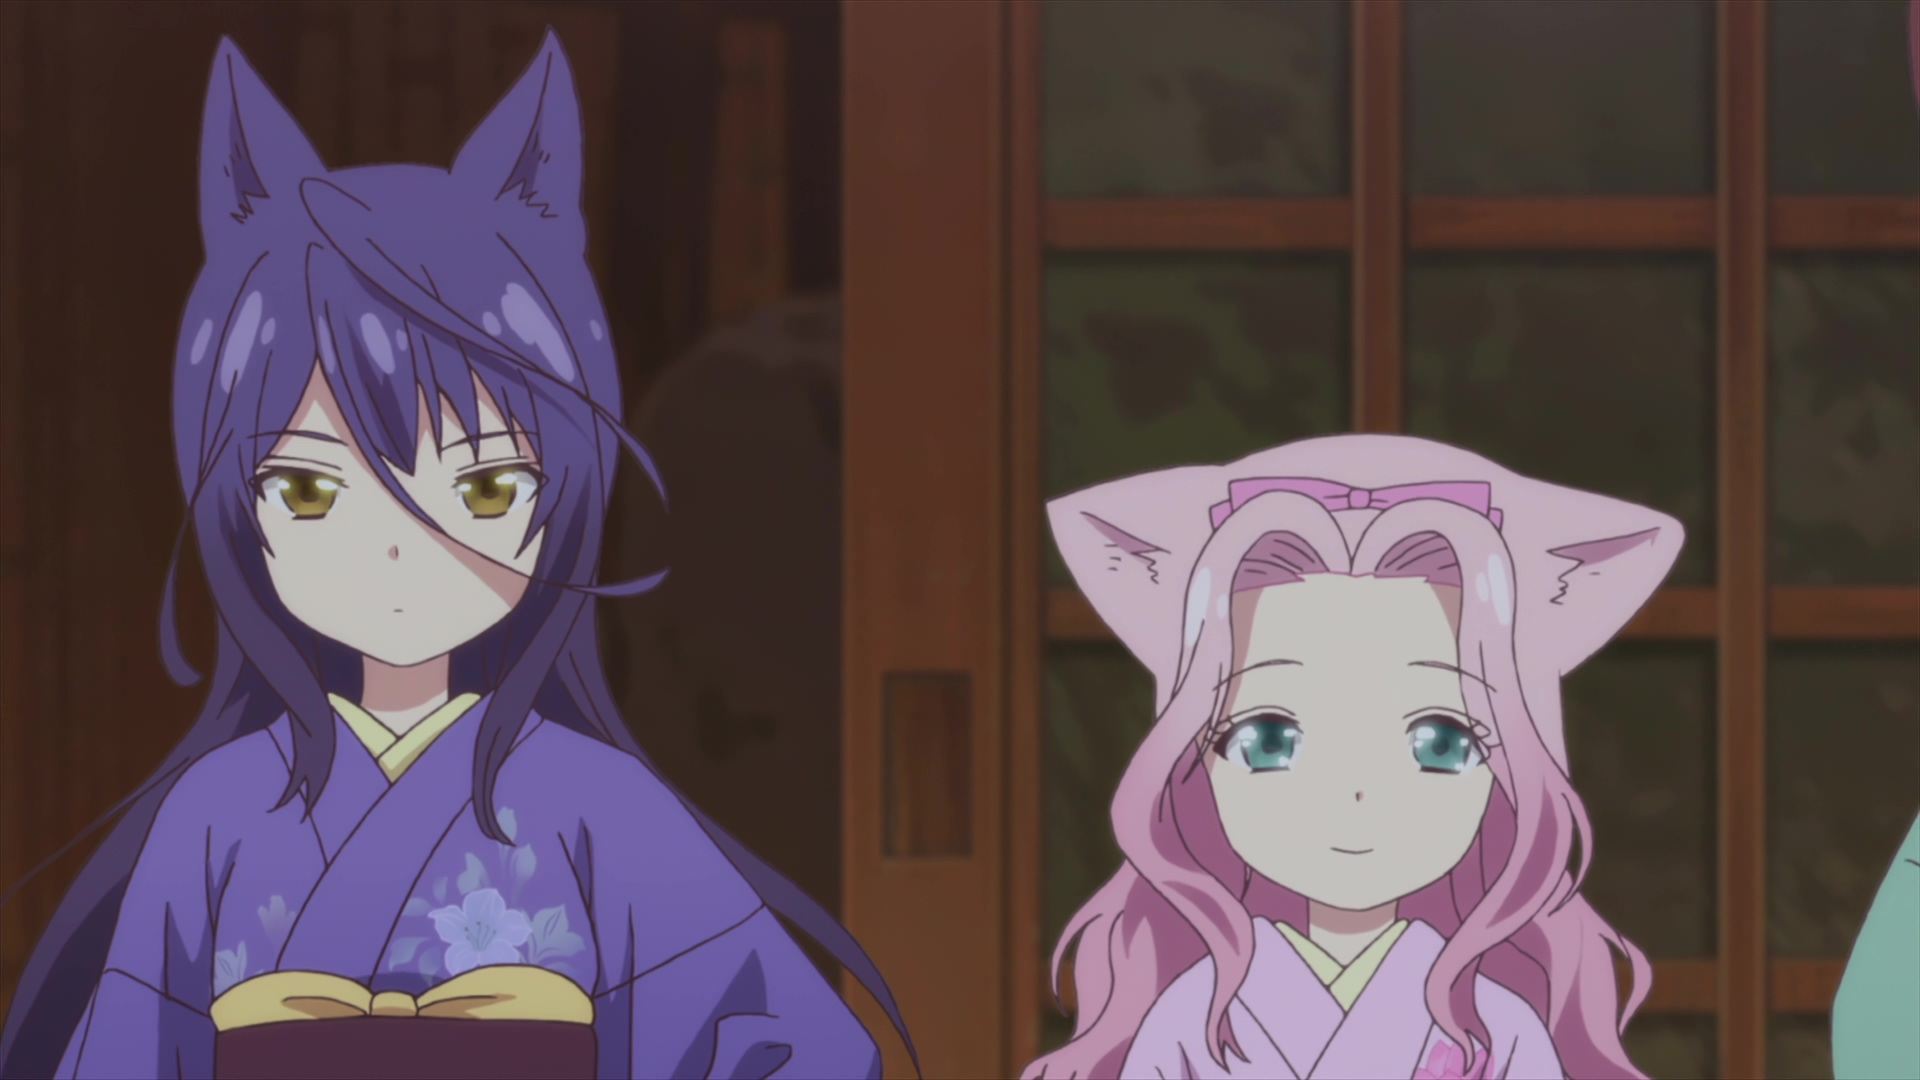皋: (1, 26, 924, 1080)
莲: (1017, 433, 1687, 1080)
